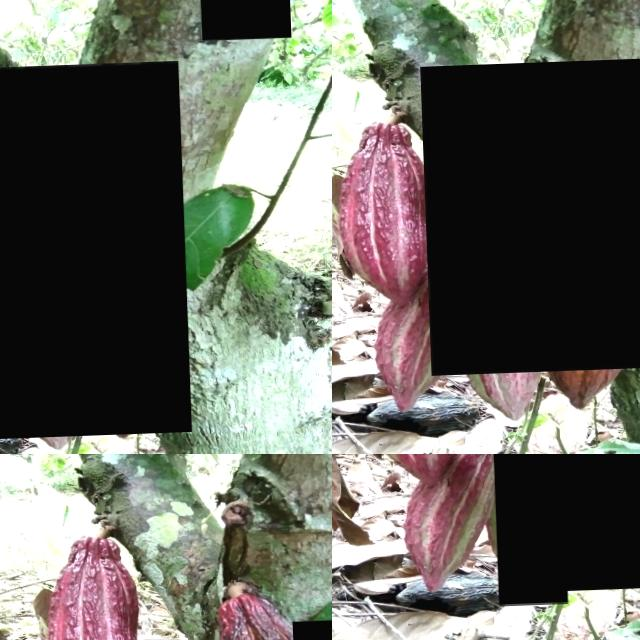Fitoftora: (536, 454, 640, 594)
Sana: (0, 64, 187, 442), (418, 62, 640, 377), (397, 454, 507, 594), (490, 454, 563, 608), (197, 0, 290, 44)
